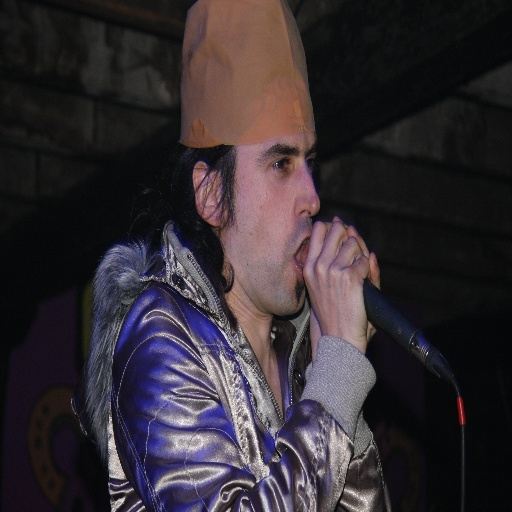hand: (308, 214, 382, 363)
